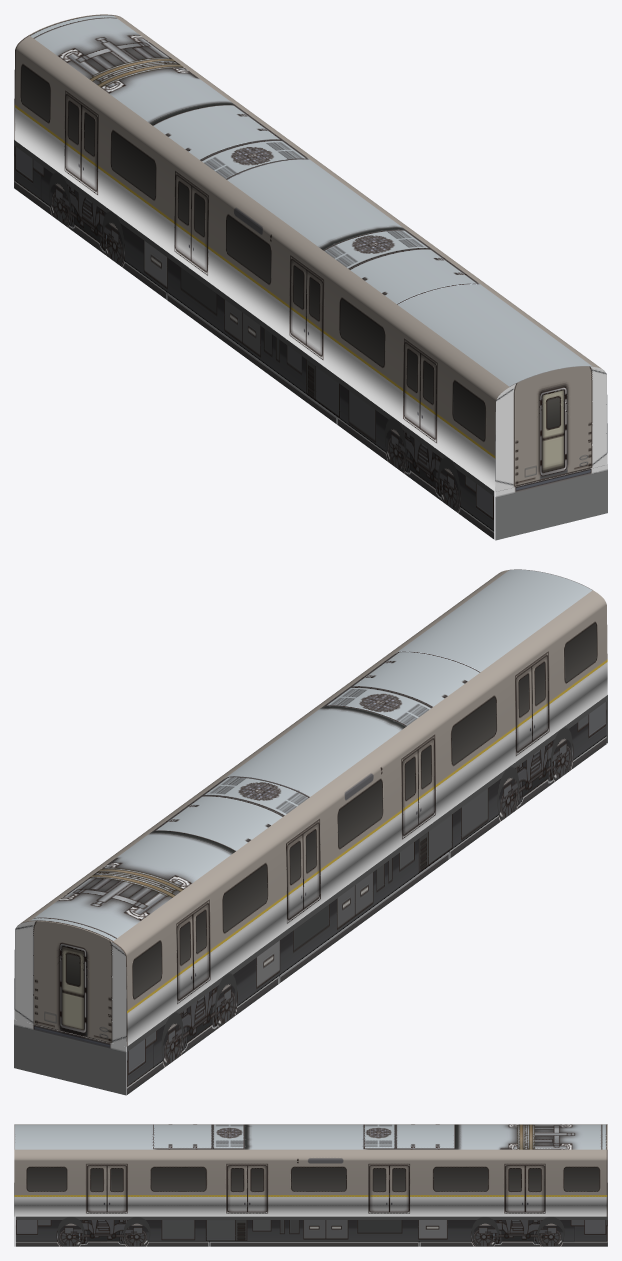
Rendered from car2.glb.
3 renders of one model, top to bottom at view 1: azimuth 30°, elevation 25°; view 2: azimuth 150°, elevation 25°; view 3: azimuth 270°, elevation 25°, orthographic. The views are drawn at different scales.
Parts seen in each view (by area): view 1: kintetsu-5820-car2; view 2: kintetsu-5820-car2; view 3: kintetsu-5820-car2.
Boxes of the visible parts, x1=… form: kintetsu-5820-car2: x1=14, y1=14, x2=607, y2=540; kintetsu-5820-car2: x1=14, y1=569, x2=607, y2=1095; kintetsu-5820-car2: x1=14, y1=1124, x2=607, y2=1246.
Size of the model in its own units: 2.8 by 3.7 by 20.75.
Materials: 9 (8 with a texture image).
